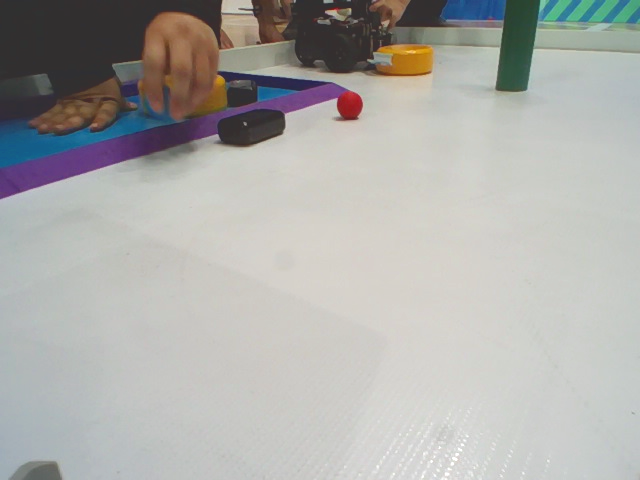black: (209, 109, 294, 149), (233, 73, 262, 109)
kuang: (4, 60, 358, 207)
red: (331, 91, 369, 121)
yellow: (119, 72, 231, 118), (362, 41, 442, 76)
zhuzi: (495, 1, 545, 96)
